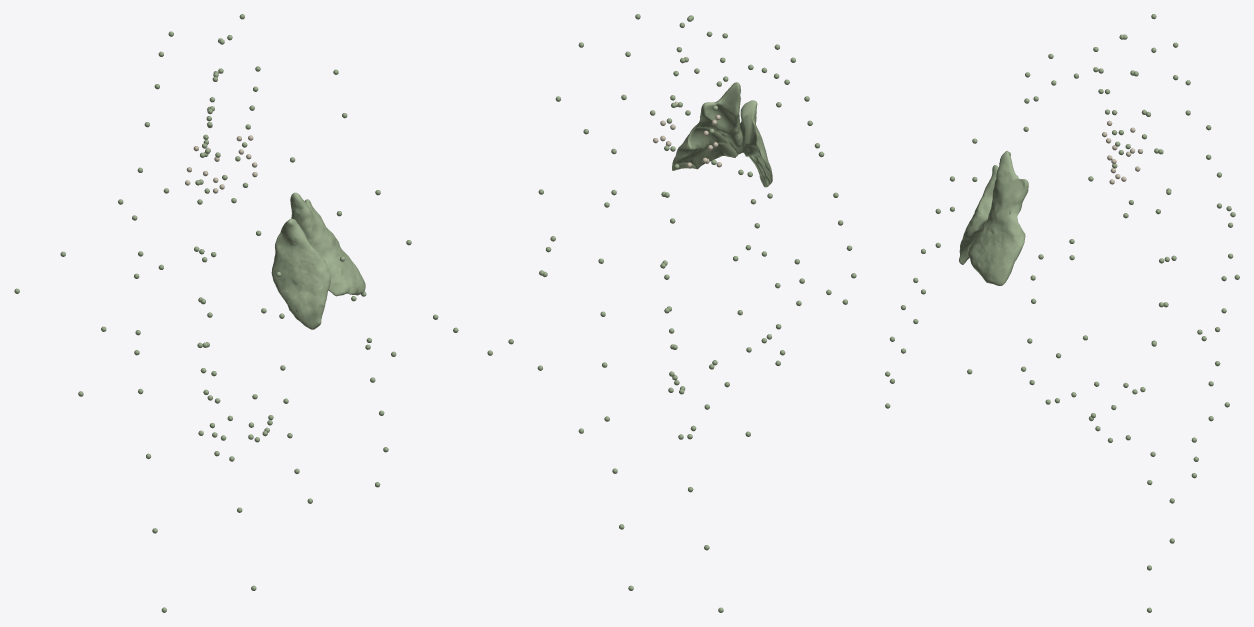
File: thorax-lymphatics-mobile.glb
3 renders of one model, left to right at view 1: azimuth 30°, elevation 25°; view 2: azimuth 150°, elevation 25°; view 3: azimuth 270°, elevation 25°, orthographic. The views are drawn at different scales.
Parts seen in each view (by area): view 1: za.right-lobe-of-thymus, za.left-lobe-of-thymus, za.intrapulmonary-nodes; view 2: za.left-lobe-of-thymus, za.right-lobe-of-thymus, za.intrapulmonary-nodes; view 3: za.left-lobe-of-thymus, za.right-lobe-of-thymus, za.intrapulmonary-nodes.
Part boxes in pixels (<box>): za.right-lobe-of-thymus: <box>271,218,330,329</box>; za.left-lobe-of-thymus: <box>290,192,365,296</box>; za.intrapulmonary-nodes: <box>14,69,458,399</box>; za.left-lobe-of-thymus: <box>672,82,742,170</box>; za.right-lobe-of-thymus: <box>730,100,772,187</box>; za.intrapulmonary-nodes: <box>487,42,831,436</box>; za.left-lobe-of-thymus: <box>968,150,1028,285</box>; za.right-lobe-of-thymus: <box>959,165,998,264</box>; za.intrapulmonary-nodes: <box>967,134,1239,485</box>.
Size of the model in its own units: 0.1824 by 0.2976 by 0.1708.
